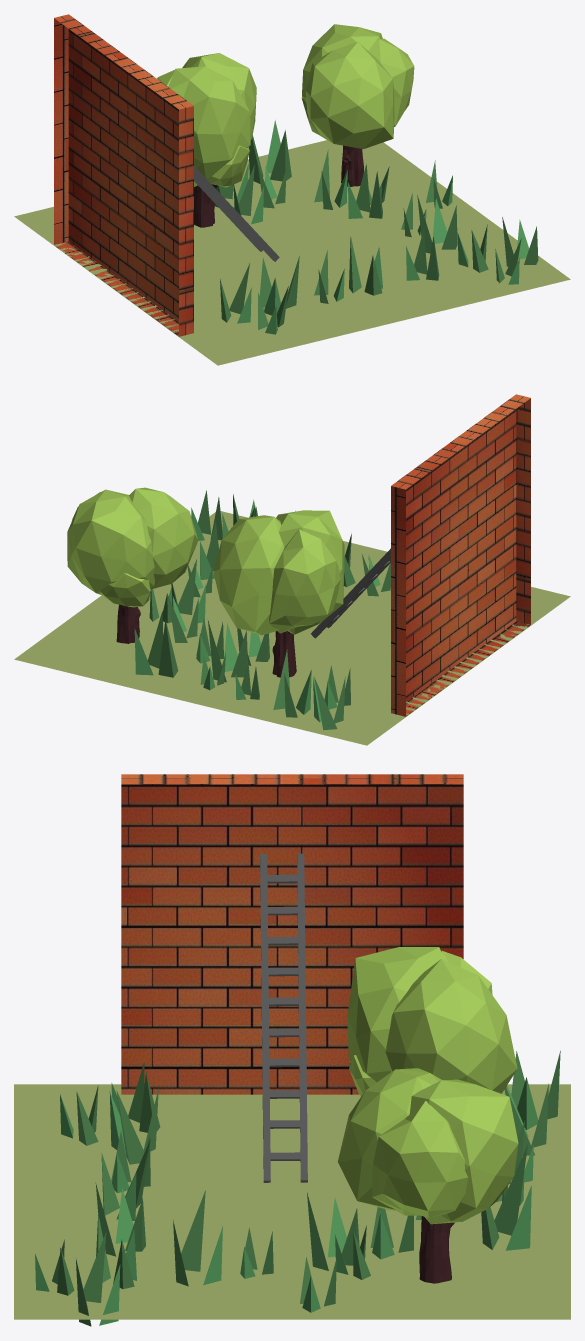
The model's file is LADDA.glb.
3 renders of one model, top to bottom at view 1: azimuth 30°, elevation 25°; view 2: azimuth 150°, elevation 25°; view 3: azimuth 270°, elevation 25°, orthographic. The views are drawn at different scales.
Visible parts, largest first — view 1: Cube.001, Cube, Icosphere, Icosphere.001, Cone.006, Ladders.018, Cone.022, Cone.024, Cone.014, Cone.017, Cone.018, Cone.013 (+9 smaller); view 2: Cube, Cube.001, Icosphere.001, Icosphere, Cone.006, Cone.007, Cone.001, Ladders.018, Cone.002, Cone.024, Cone.021, Cone.010 (+8 smaller); view 3: Cube, Cube.001, Icosphere, Icosphere.001, Ladders.018, Cone.006, Cone.022, Cone.024, Cone.021, Cone.014, Cone.002, Cone.018 (+11 smaller).
Boxes of the visible parts, x1,y1,x2,y2 form: Cube.001: (14, 140, 570, 365); Cube: (54, 14, 193, 336); Icosphere: (301, 24, 414, 186); Icosphere.001: (157, 53, 256, 227); Cone.006: (248, 120, 291, 183); Ladders.018: (127, 109, 279, 261); Cone.022: (417, 195, 457, 253); Cone.024: (348, 164, 382, 218); Cone.014: (259, 256, 299, 315); Cone.017: (349, 236, 382, 295); Cone.018: (406, 229, 439, 280); Cone.013: (220, 263, 251, 323); Cube: (391, 394, 530, 716); Cube.001: (14, 511, 570, 745); Icosphere.001: (213, 510, 344, 677); Icosphere: (67, 487, 198, 643); Cone.006: (134, 611, 178, 677); Cone.007: (208, 620, 247, 682); Cone.001: (273, 649, 311, 717); Ladders.018: (311, 494, 450, 638); Cone.002: (313, 676, 345, 730); Cone.024: (171, 559, 205, 623); Cone.021: (191, 490, 222, 540); Cone.010: (168, 595, 198, 642); Cube: (121, 774, 463, 1094); Cube.001: (14, 1084, 570, 1319); Icosphere: (337, 1068, 518, 1283); Icosphere.001: (347, 947, 517, 1096); Ladders.018: (260, 853, 307, 1182); Cone.006: (481, 1144, 531, 1250); Cone.022: (173, 1190, 222, 1286); Cone.024: (307, 1192, 359, 1270); Cone.021: (76, 1232, 120, 1326); Cone.014: (109, 1088, 158, 1164); Cone.002: (511, 1050, 560, 1129); Cone.018: (95, 1182, 145, 1256).
Size of the model in its own units: 3.25 by 2.13 by 3.25.
8 materials, 1 textured.
